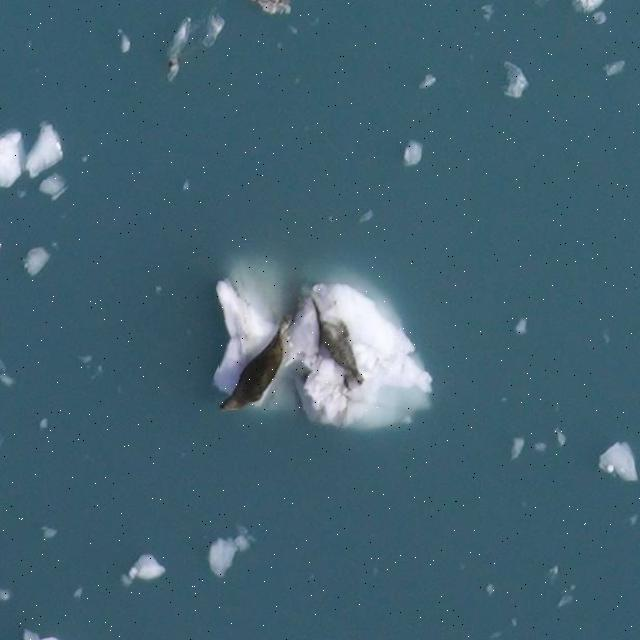seal: (219, 318, 293, 410), (322, 321, 361, 388)
